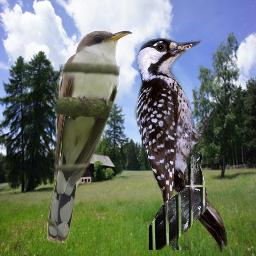Crow: (149, 152, 207, 250)
Cuckoo: (47, 29, 134, 243)
Woodpecker: (134, 38, 227, 252)
